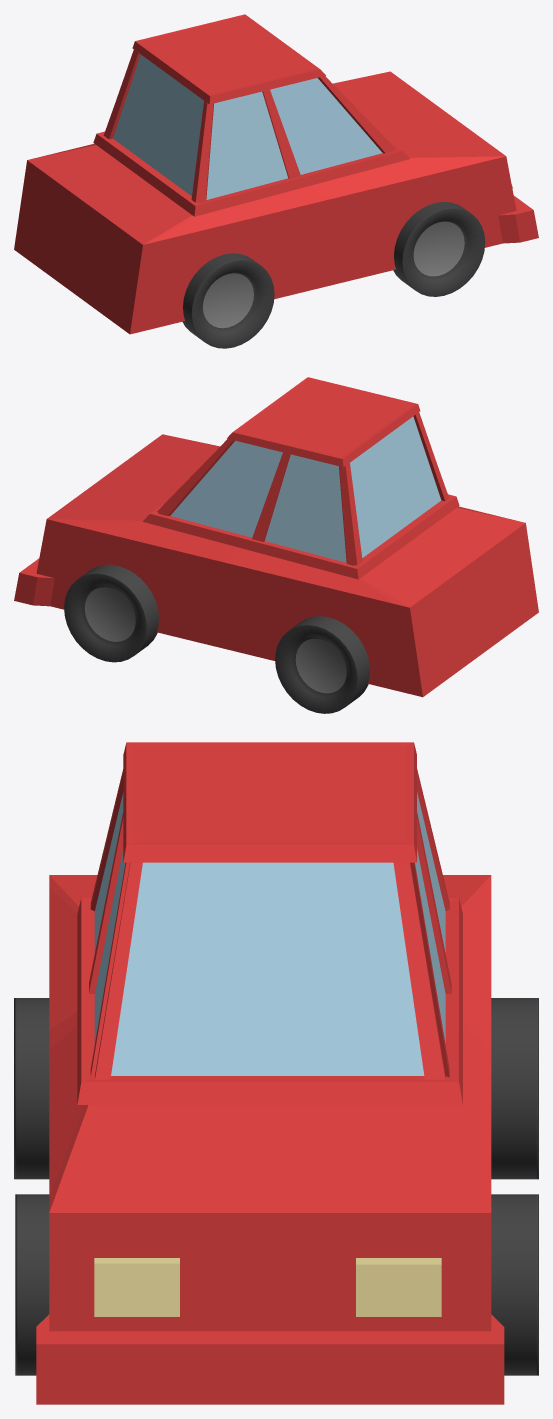
Rendered from car red.fbx.
3 renders of one model, top to bottom at view 1: azimuth 30°, elevation 25°; view 2: azimuth 150°, elevation 25°; view 3: azimuth 270°, elevation 25°, orthographic. The views are drawn at different scales.
Parts seen in each view (by area): view 1: Cube.027, Cylinder.017, Cylinder.019; view 2: Cube.027, Cylinder.015, Cylinder.016; view 3: Cube.027, Cylinder.016, Cylinder.015, Cylinder.017, Cylinder.019.
Part boxes in pixels (bbox=[...]): Cube.027: bbox=[14, 14, 538, 334]; Cylinder.017: bbox=[182, 253, 274, 348]; Cylinder.019: bbox=[393, 202, 485, 296]; Cube.027: bbox=[14, 377, 538, 697]; Cylinder.015: bbox=[64, 564, 158, 662]; Cylinder.016: bbox=[275, 616, 369, 713]; Cube.027: bbox=[36, 742, 504, 1404]; Cylinder.016: bbox=[491, 998, 538, 1179]; Cylinder.015: bbox=[491, 1194, 538, 1375]; Cylinder.017: bbox=[14, 998, 49, 1179]; Cylinder.019: bbox=[15, 1194, 49, 1375].
Size of the model in its own units: 9.83 by 5.28 by 5.78.
